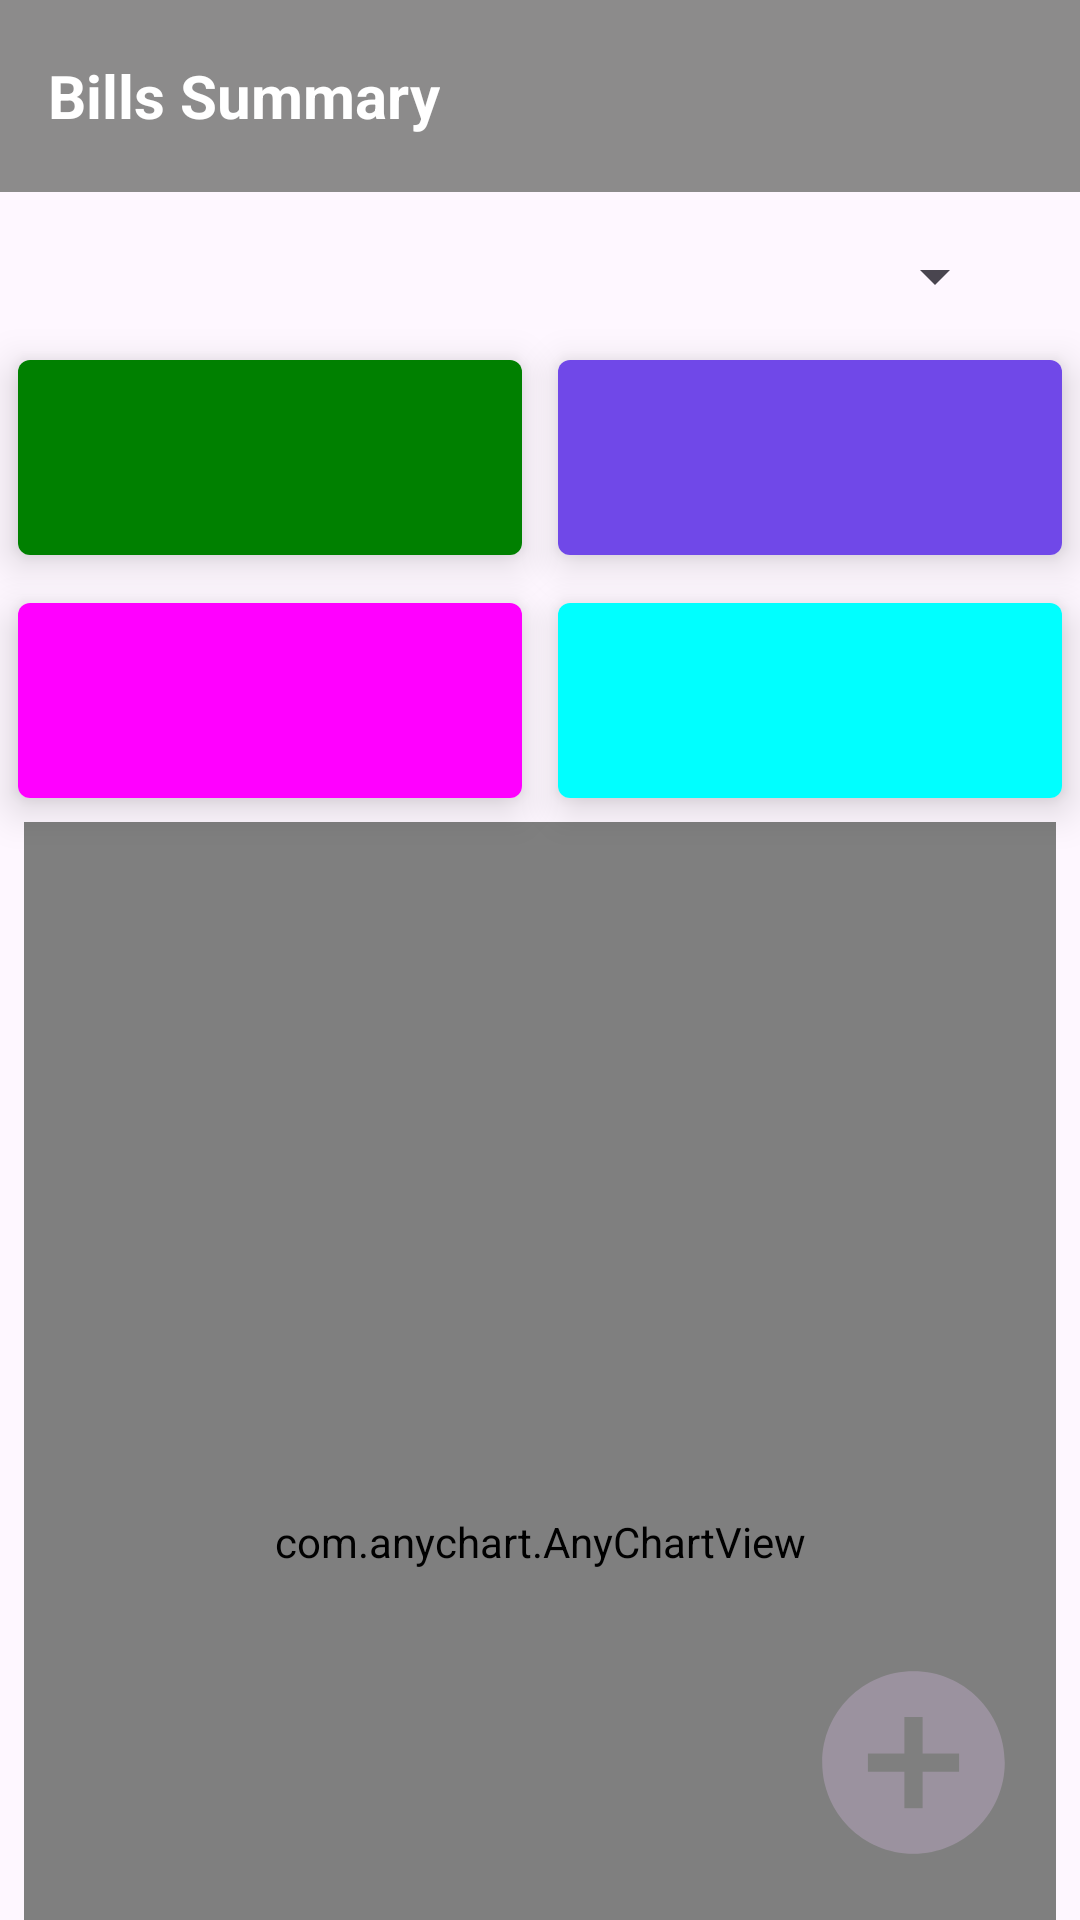

Icon click points for this 1080px×1920px phone screenshot, format (x,y):
add circle: (913,1762)
